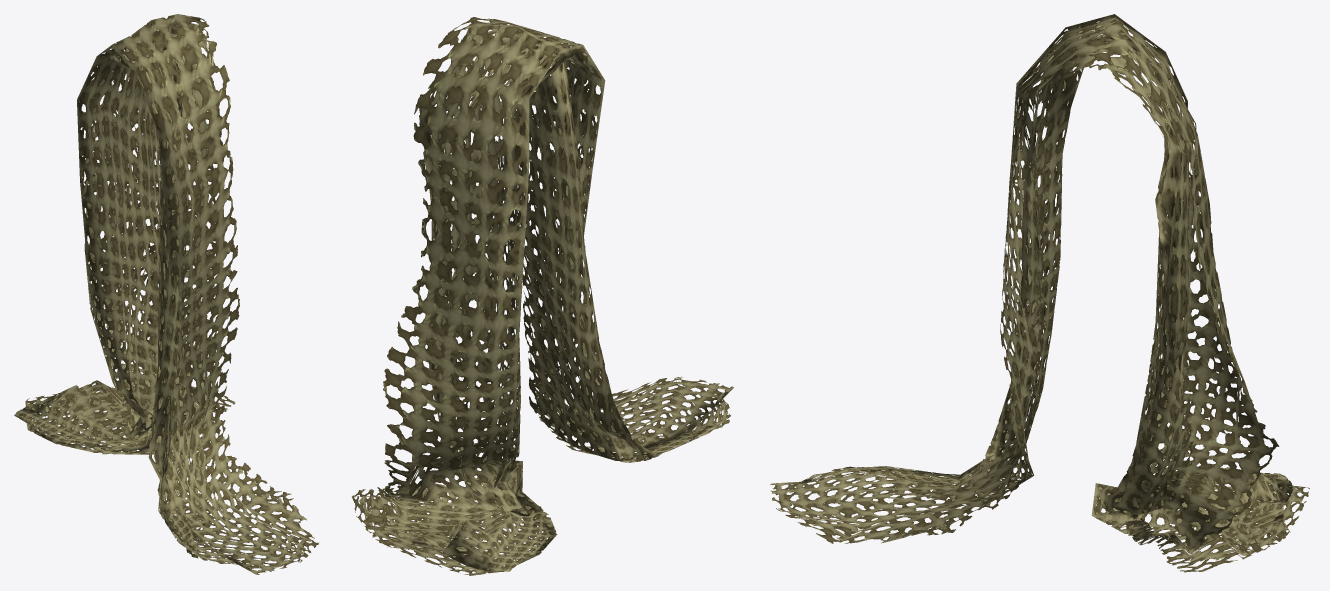
Rendered from SM_PROP_net_town_03.fbx.
3 renders of one model, left to right at view 1: azimuth 30°, elevation 25°; view 2: azimuth 150°, elevation 25°; view 3: azimuth 270°, elevation 25°, orthographic. The views are drawn at different scales.
Parts seen in each view (by area): view 1: SM_PROP_net_town_03_LOD0; view 2: SM_PROP_net_town_03_LOD0; view 3: SM_PROP_net_town_03_LOD0.
Boxes of the visible parts, box(x1,y1,x2,y2) form: SM_PROP_net_town_03_LOD0: box(14, 14, 318, 574); SM_PROP_net_town_03_LOD0: box(352, 17, 733, 575); SM_PROP_net_town_03_LOD0: box(770, 14, 1309, 572).
Size of what is drawn, in the model's own units: 48.99 by 102 by 101.
